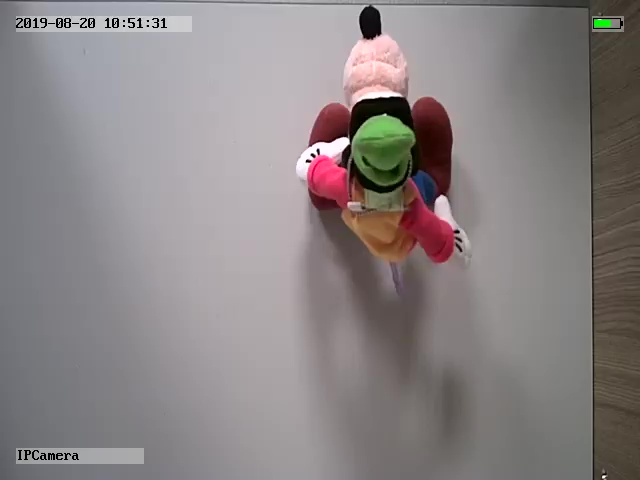goofy: (296, 5, 472, 272)
